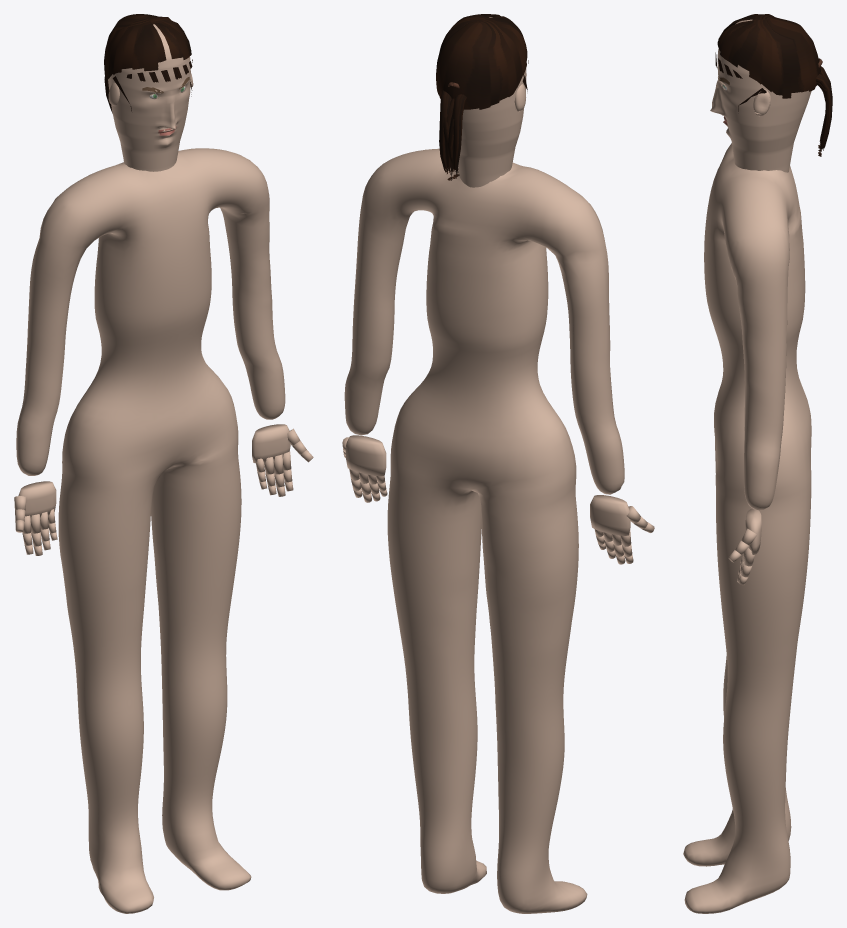
Rendered from heroi_julia_fase3.glb.
3 renders of one model, left to right at view 1: azimuth 30°, elevation 25°; view 2: azimuth 150°, elevation 25°; view 3: azimuth 270°, elevation 25°, orthographic. The views are drawn at different scales.
Visible parts, largest first — view 1: JuliaBase, calota_cabelo; view 2: JuliaBase, calota_cabelo, rabo_mecha_1; view 3: JuliaBase, calota_cabelo, rabo_mecha_5.
Boxes of the visible parts, x1=… form: JuliaBase: x1=14, y1=24, x2=313, y2=913; calota_cabelo: x1=104, y1=14, x2=191, y2=80; JuliaBase: x1=342, y1=17, x2=654, y2=913; calota_cabelo: x1=436, y1=14, x2=527, y2=109; rabo_mecha_1: x1=452, y1=94, x2=466, y2=177; JuliaBase: x1=683, y1=19, x2=811, y2=913; calota_cabelo: x1=717, y1=14, x2=820, y2=98; rabo_mecha_5: x1=816, y1=74, x2=832, y2=154.
Size of the model in its own units: 0.6269 by 1.73 by 0.2706.
Materials: 11 (2 with a texture image).
